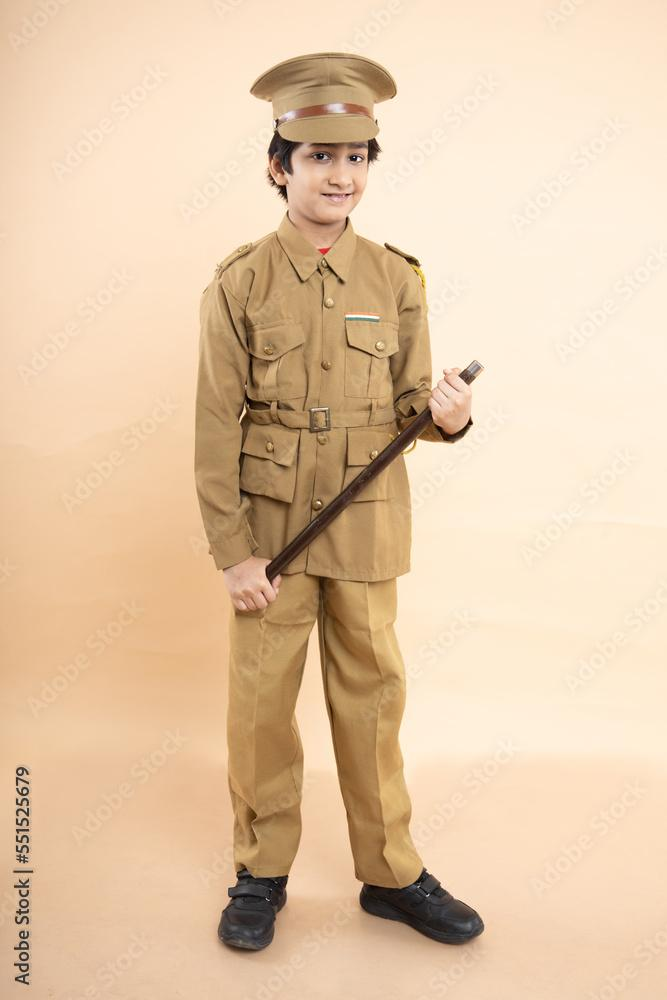Human: (118, 11, 515, 981)
